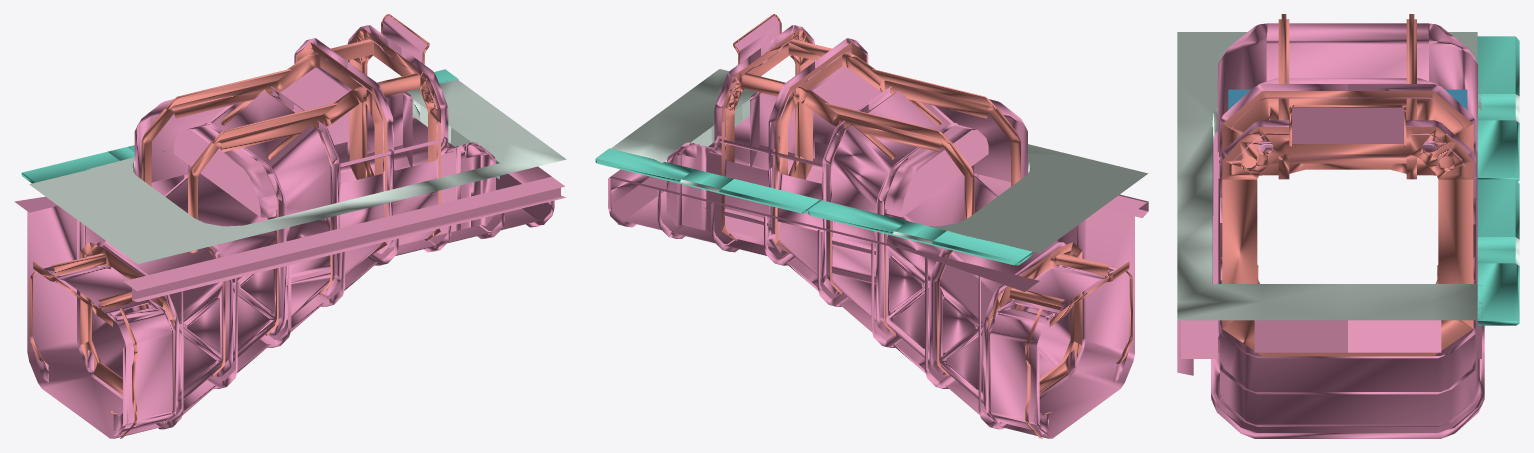
File: ext_landingpad_floor_straight_stair_left_16x08x10_b.glb
3 renders of one model, left to right at view 1: azimuth 30°, elevation 25°; view 2: azimuth 150°, elevation 25°; view 3: azimuth 270°, elevation 25°, orthographic. The views are drawn at different scales.
Bounding box in the file's own units: 16.17 × 10.95 × 8.03.
